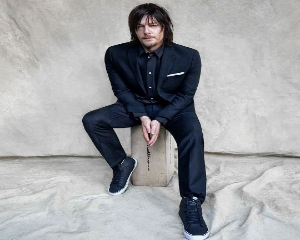sit: (77, 2, 229, 225)
